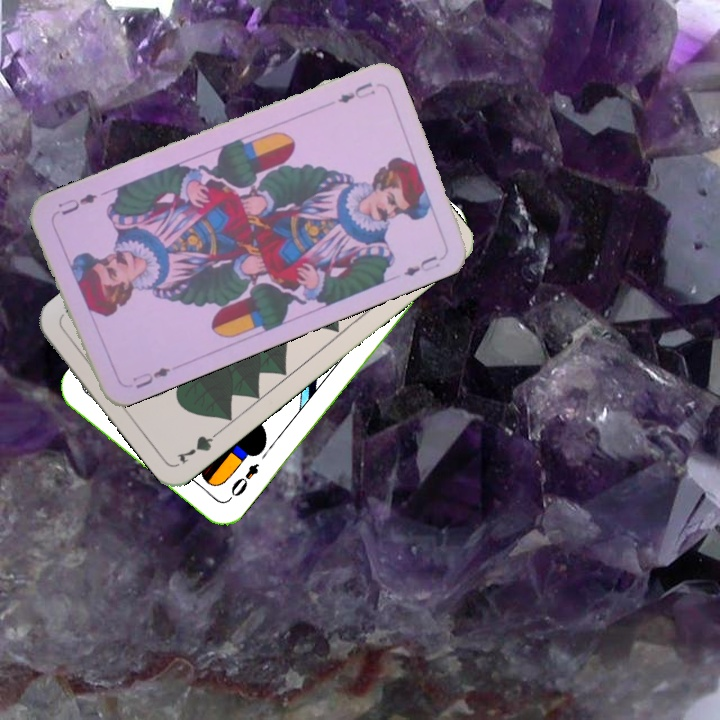EO: (224, 458, 262, 503)
EU: (128, 363, 173, 392), (333, 78, 379, 106)
G7: (172, 424, 226, 467)
